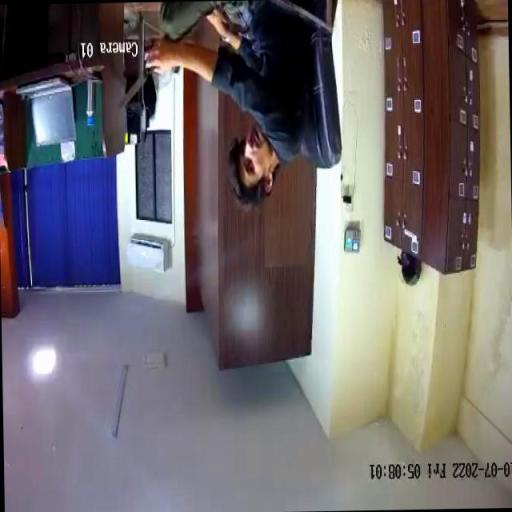knife: (114, 61, 156, 113)
